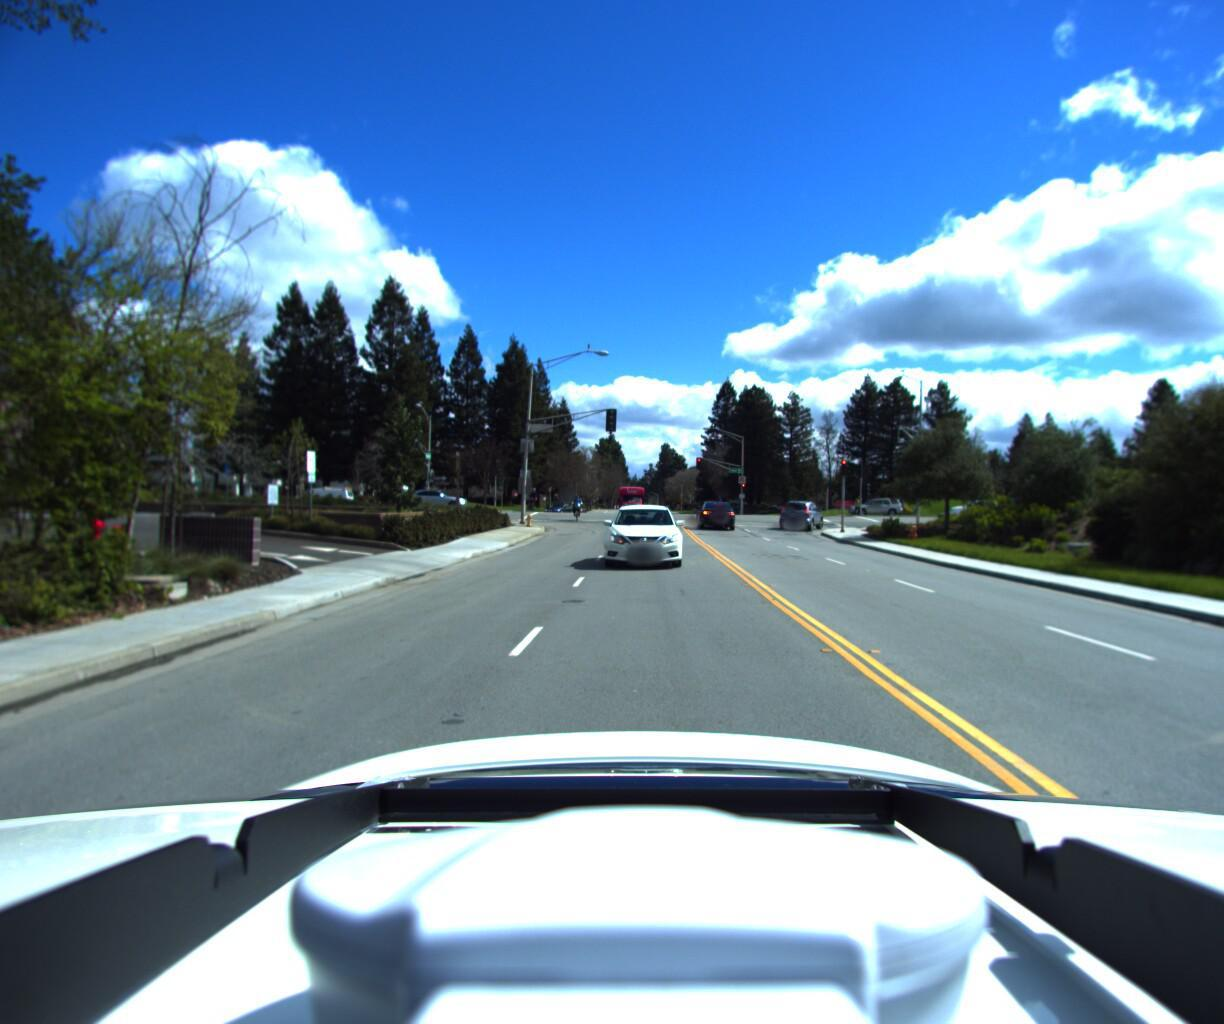bicycle: (564, 500, 580, 529), (525, 496, 537, 520)
bus: (613, 485, 645, 525)
car: (597, 509, 682, 579), (282, 492, 349, 520), (774, 506, 831, 538), (399, 496, 465, 519), (686, 505, 734, 535), (840, 502, 898, 524)
